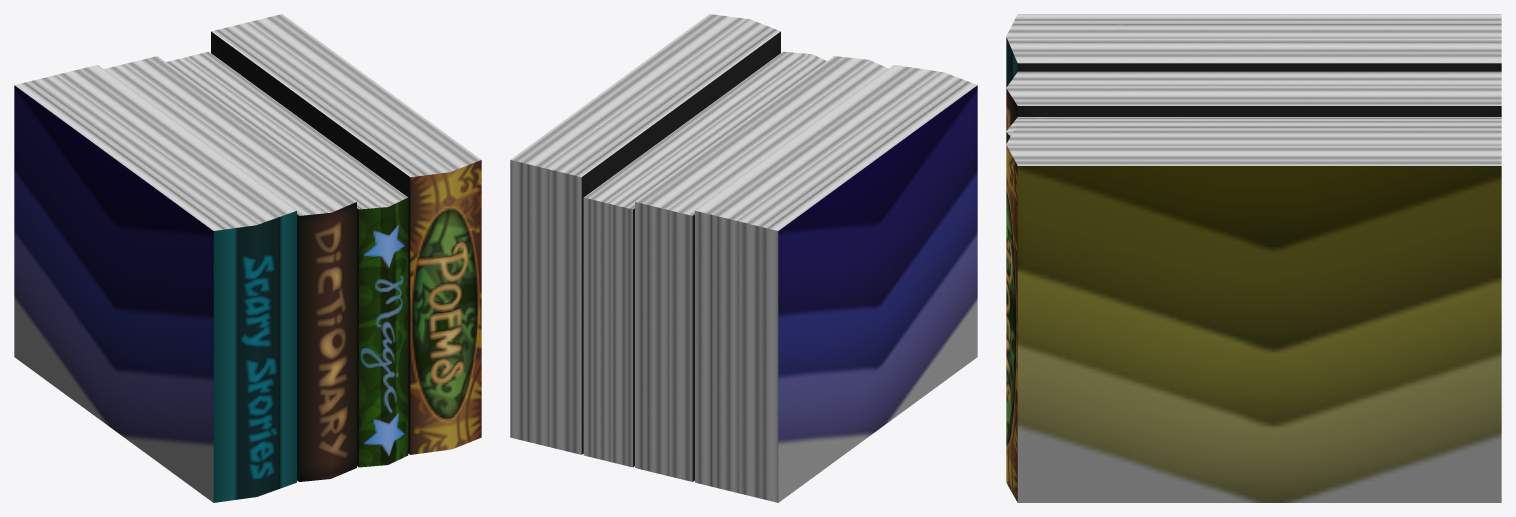
File: Books_B.FBX
3 views of the same model, side by side, from view 1: azimuth 30°, elevation 25°; view 2: azimuth 150°, elevation 25°; view 3: azimuth 270°, elevation 25° (orthographic). The views are drawn at different scales.
Visible parts, largest first — view 1: Books_04; view 2: Books_04; view 3: Books_04.
Boxes of the visible parts, <box> form: Books_04: <box>14,14,481,502</box>; Books_04: <box>510,14,977,502</box>; Books_04: <box>1006,14,1501,502</box>.
Bounding box in the file's own units: 32.66 × 32.33 × 43.06.
